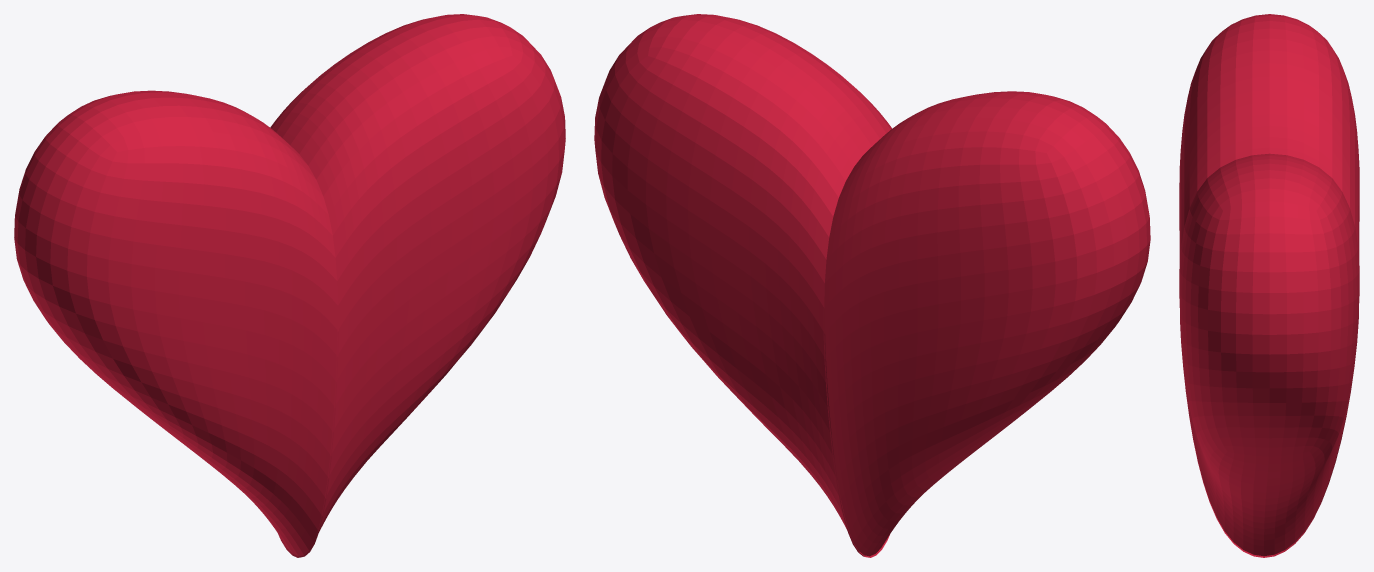
Rendered from HeartPickup.fbx.
3 renders of one model, left to right at view 1: azimuth 30°, elevation 25°; view 2: azimuth 150°, elevation 25°; view 3: azimuth 270°, elevation 25°, orthographic. The views are drawn at different scales.
Parts seen in each view (by area): view 1: Cube; view 2: Cube; view 3: Cube.
Boxes of the visible parts, box(x1,y1,x2,y2) form: Cube: box(14, 14, 565, 557); Cube: box(594, 14, 1150, 557); Cube: box(1179, 14, 1359, 557).
Size of the model in its own units: 6.16 by 5.44 by 1.94.
